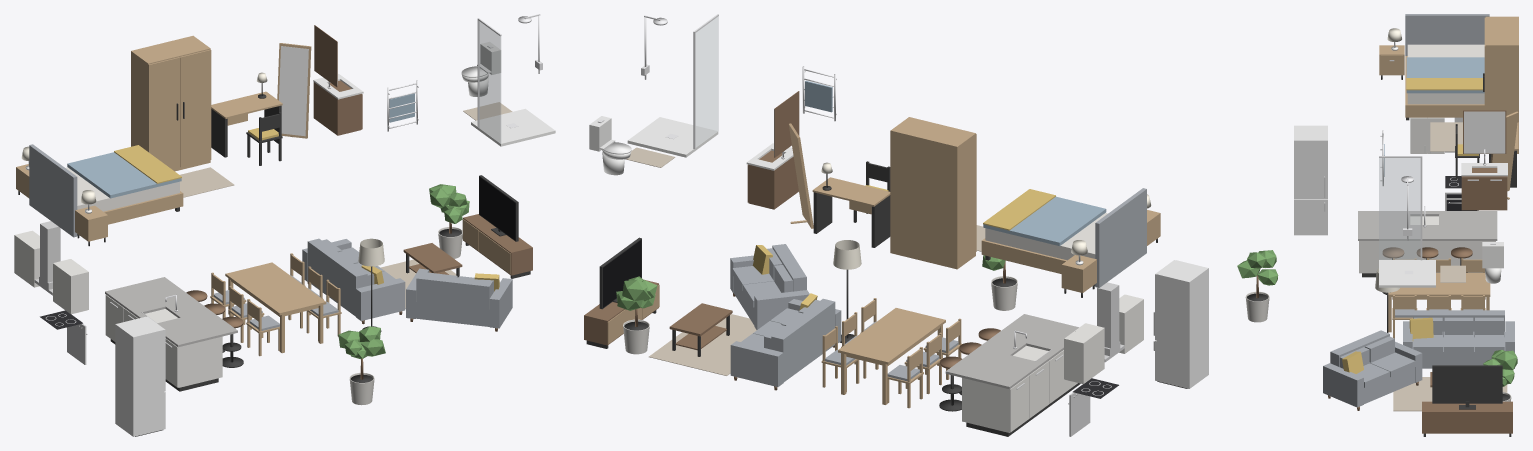
The model's file is Furniture.fbx.
3 renders of one model, left to right at view 1: azimuth 30°, elevation 25°; view 2: azimuth 150°, elevation 25°; view 3: azimuth 270°, elevation 25°, orthographic. The views are drawn at different scales.
Parts seen in each view (by area): view 1: Fur_Wardrobe, Fur_Bed, Fur_Island, Fur_Fridge, Fur_Sofa_2, Fur_Sofa_1, Fur_Shower, Fur_TVUnit, Fur_Vanity, Fur_DiningTable, Fur_StandingMirror, Fur_Desk (+20 smaller); view 2: Fur_Wardrobe, Fur_Bed, Fur_Island, Fur_Fridge, Fur_Sofa_1, Fur_Shower, Fur_Sofa_2, Fur_DiningTable, Fur_Vanity, Fur_TVUnit, Fur_Desk, Fur_Rug_Living (+17 smaller); view 3: Fur_Bed, Fur_Island, Fur_Shower, Fur_TVUnit, Fur_Sofa_1, Fur_Sofa_2, Fur_Vanity, Fur_Fridge, Fur_Wardrobe, Fur_Plant_1, Fur_DiningTable, Fur_Rug_Living (+14 smaller).
Part boxes in pixels (box(x1,y1,x2,y2)): Fur_Wardrobe: box(131, 35, 211, 171); Fur_Bed: box(29, 144, 183, 237); Fur_Island: box(105, 277, 237, 391); Fur_Fridge: box(115, 316, 165, 436); Fur_Sofa_2: box(406, 268, 512, 331); Fur_Sofa_1: box(302, 238, 405, 324); Fur_Shower: box(471, 14, 555, 146); Fur_TVUnit: box(462, 175, 532, 278); Fur_Vanity: box(313, 25, 363, 135); Fur_DiningTable: box(225, 262, 326, 353); Fur_StandingMirror: box(277, 43, 311, 138); Fur_Desk: box(211, 72, 282, 157); Fur_Wardrobe: box(890, 117, 976, 269); Fur_Bed: box(981, 188, 1146, 287); Fur_Island: box(945, 314, 1080, 436); Fur_Fridge: box(1153, 260, 1208, 388); Fur_Sofa_1: box(730, 293, 841, 390); Fur_Shower: box(627, 14, 718, 157); Fur_Sofa_2: box(730, 244, 809, 329); Fur_DiningTable: box(838, 308, 945, 404); Fur_Vanity: box(746, 91, 799, 209); Fur_TVUnit: box(584, 237, 659, 348); Fur_Desk: box(812, 162, 890, 247); Fur_Rug_Living: box(649, 314, 756, 375); Fur_Bed: box(1405, 14, 1489, 120); Fur_Island: box(1358, 206, 1497, 277); Fur_Shower: box(1379, 156, 1435, 287); Fur_TVUnit: box(1422, 365, 1512, 436); Fur_Sofa_1: box(1403, 310, 1514, 368); Fur_Sofa_2: box(1323, 330, 1422, 410); Fur_Vanity: box(1461, 110, 1507, 210); Fur_Fridge: box(1294, 125, 1327, 235); Fur_Wardrobe: box(1483, 16, 1518, 153); Fur_Plant_1: box(1237, 250, 1278, 322); Fur_DiningTable: box(1388, 273, 1490, 332); Fur_Rug_Living: box(1393, 377, 1507, 411).
Size of the model in its own units: 9 by 5 by 4.94.
